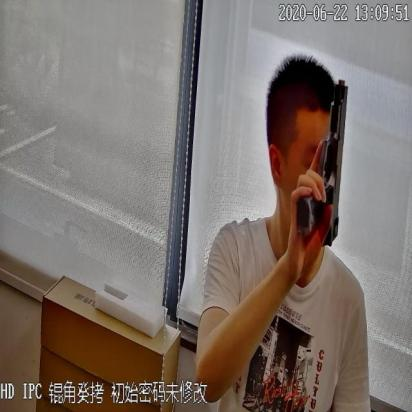Gun: (292, 76, 349, 244)
